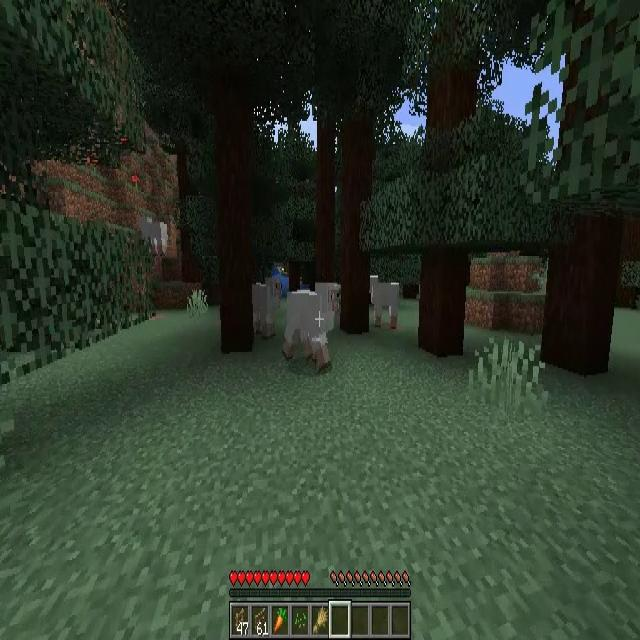sheep: (282, 283, 342, 366), (252, 280, 278, 336), (371, 279, 399, 330)
